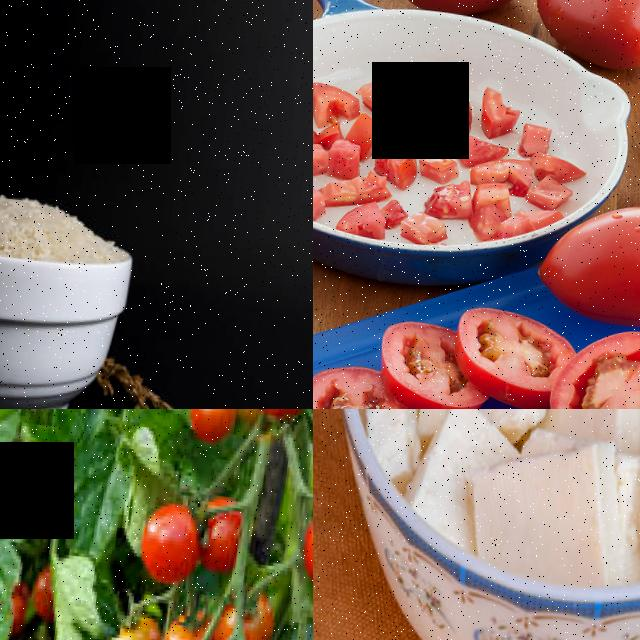tofu: (474, 428, 629, 566), (365, 409, 438, 473)
tomato: (543, 181, 640, 322), (559, 310, 640, 409), (533, 0, 640, 63), (145, 485, 216, 578)
white rice: (0, 180, 143, 264)
